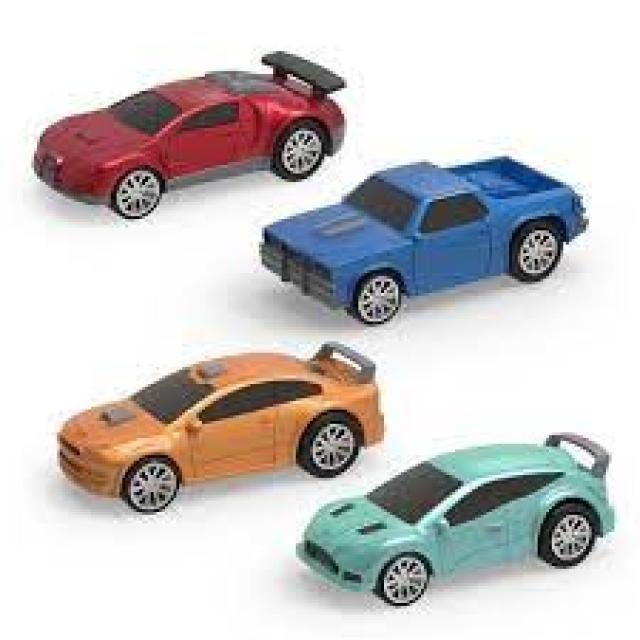Car: (54, 338, 384, 512), (293, 429, 614, 606), (256, 154, 589, 324), (31, 48, 347, 219)
